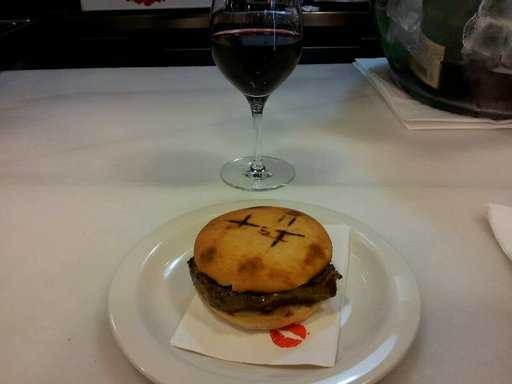hamburger: (192, 212, 346, 324)
